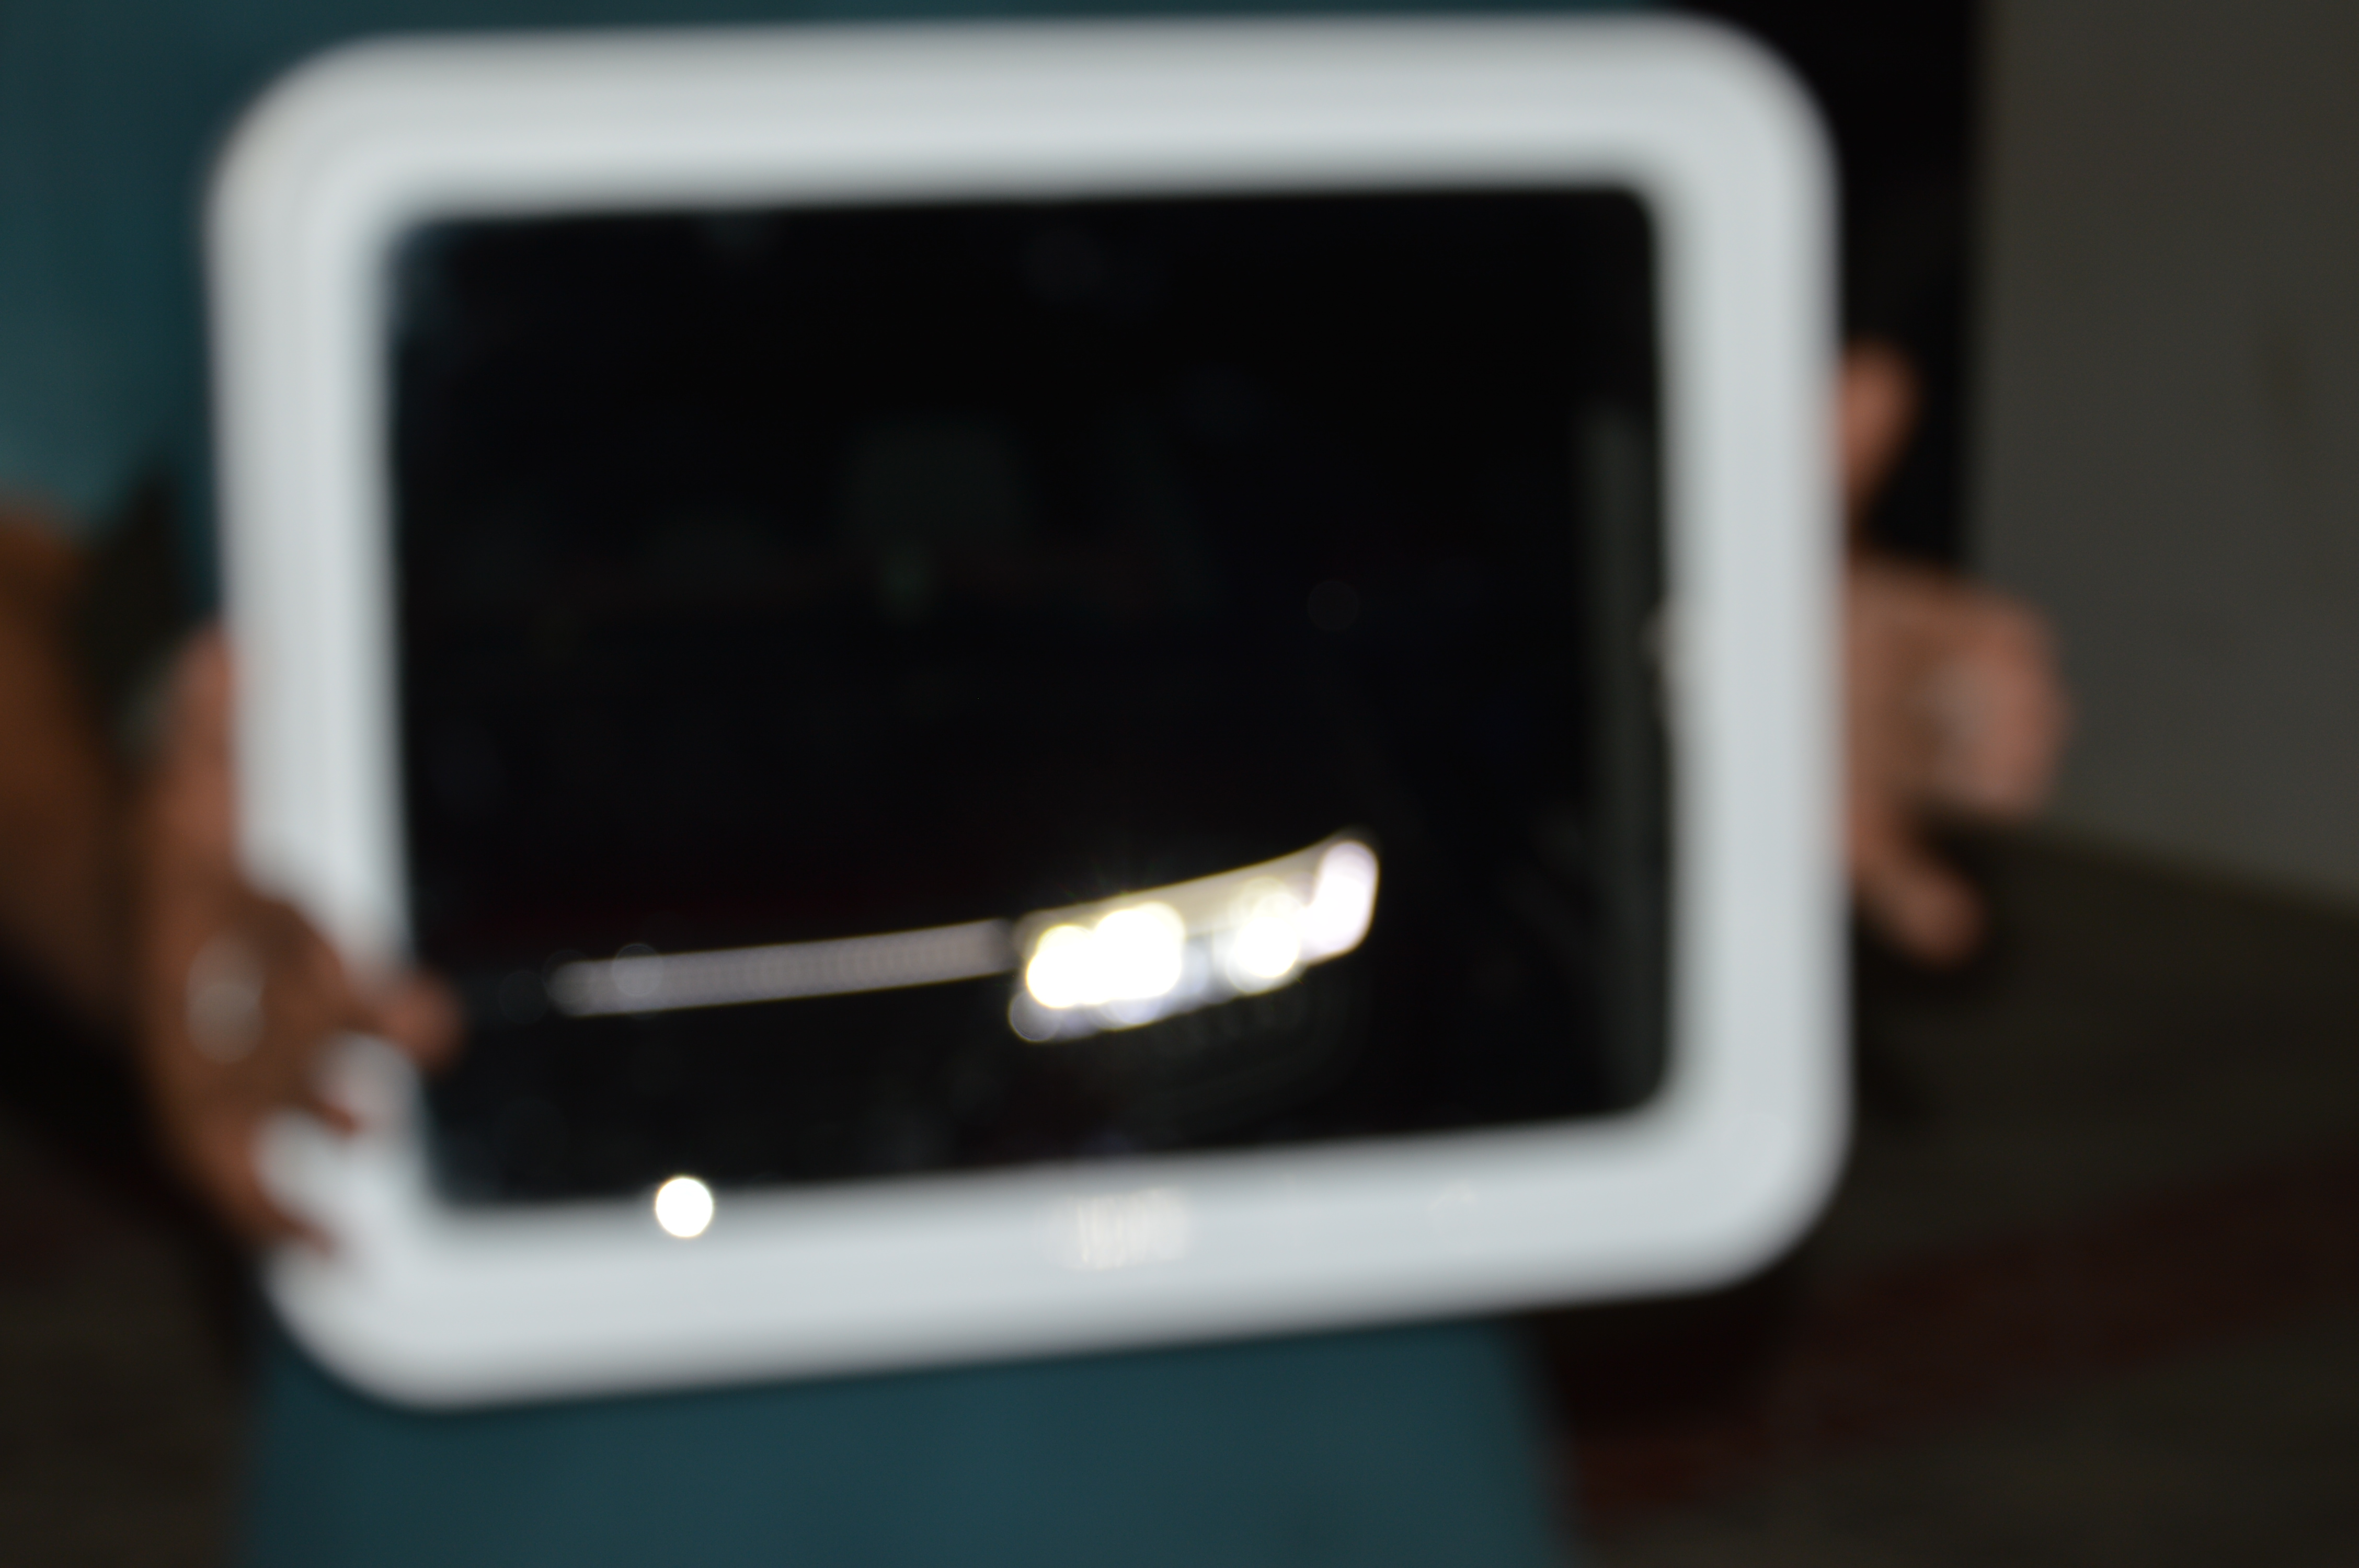Glare: (1024, 887, 1328, 1048)
